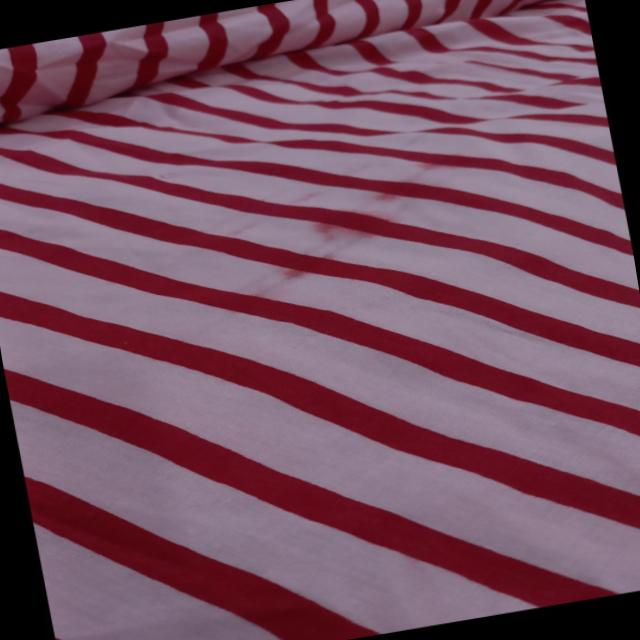color issues: (246, 143, 483, 294)
